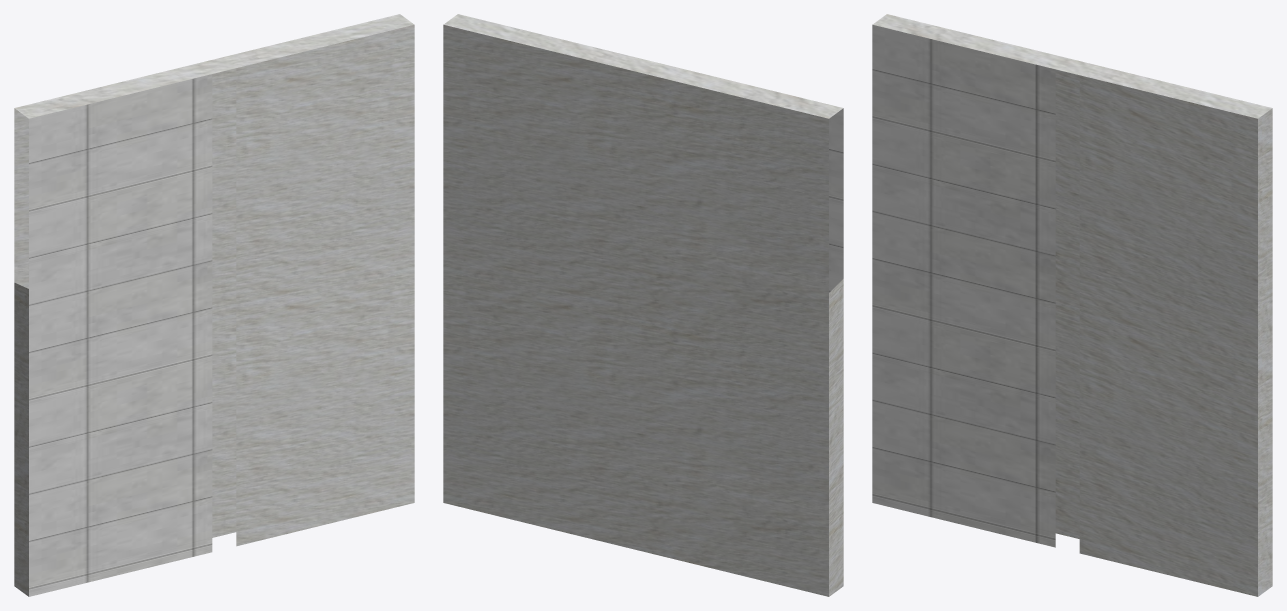
Rendered from wall_15.obj.
3 renders of one model, left to right at view 1: azimuth 30°, elevation 25°; view 2: azimuth 150°, elevation 25°; view 3: azimuth 330°, elevation 25°, orthographic.
Parts seen in each view (by area): view 1: Cube.005; view 2: Cube.005; view 3: Cube.005.
Part boxes in pixels (x1=…): Cube.005: x1=14, y1=14, x2=414, y2=596; Cube.005: x1=443, y1=14, x2=843, y2=596; Cube.005: x1=872, y1=14, x2=1272, y2=596.
Size of the model in its own units: 4.33 by 5.13 by 0.2841.
2 materials, 2 textured.
